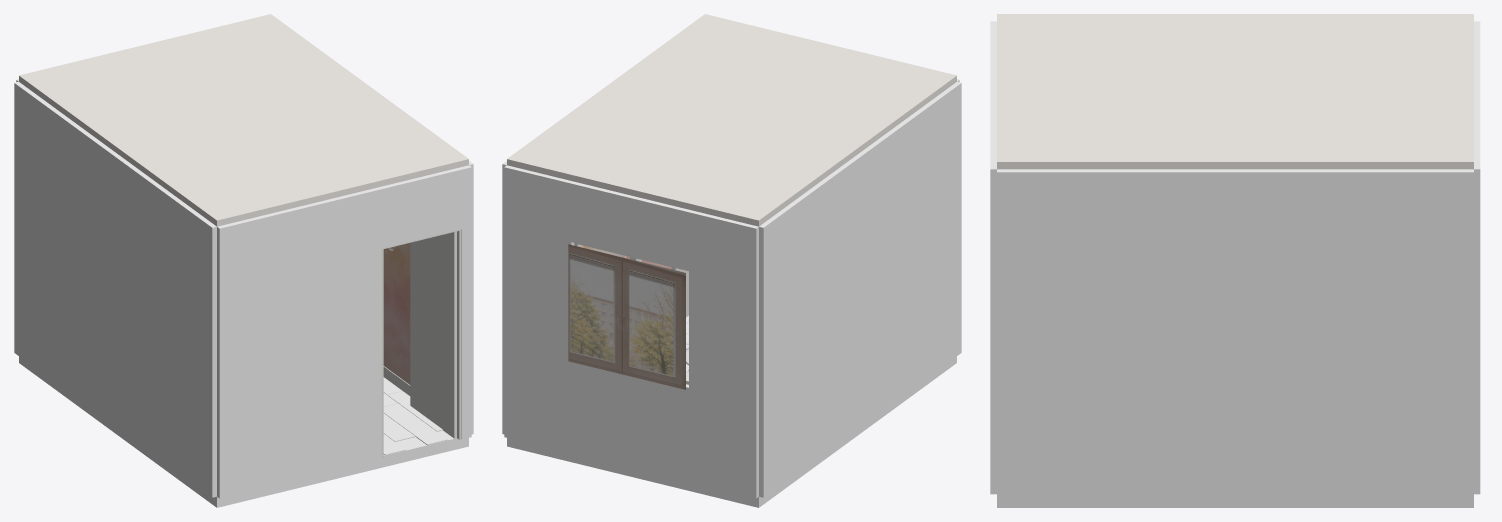
Rendered from Julia_recorrido_web.glb.
The picture shows the model from 3 angles, left to right: view 1: azimuth 30°, elevation 25°; view 2: azimuth 150°, elevation 25°; view 3: azimuth 270°, elevation 25°; orthographic projection. The views are drawn at different scales.
Parts seen in each view (by area): view 1: Muro izquierdo rosa, Techo 263cm, Tabique entrada izquierda, Hoja puerta blanca ABIERTA, Dintel puerta, Suelo base 257x350, Papel pintado autentico pared cuna, Tabique entrada derecha, Tabla de tarima escalonada.040, Marco puerta.001, Muro derecho papel pintado, Marco puerta; view 2: Muro izquierdo rosa, Techo 263cm, Pared trasera Izquierdo, Pared trasera Derecho, Arboles y edificios visibles desde Julia, Antepecho ventana, Dintel ventana, Suelo base 257x350, Muro derecho papel pintado; view 3: Muro derecho papel pintado, Techo 263cm, Suelo base 257x350, Pared trasera Derecho, Tabique entrada derecha, Tabique entrada izquierda.
Boxes of the visible parts, x1,y1,x2,y2 form: Muro izquierdo rosa: [14, 81, 216, 497]; Techo 263cm: [19, 14, 468, 226]; Tabique entrada izquierda: [217, 187, 381, 498]; Hoja puerta blanca ABIERTA: [410, 231, 456, 438]; Dintel puerta: [379, 167, 461, 248]; Suelo base 257x350: [19, 356, 468, 507]; Papel pintado autentico pared cuna: [383, 243, 410, 384]; Tabique entrada derecha: [460, 165, 471, 439]; Tabla de tarima escalonada.040: [383, 403, 447, 445]; Marco puerta.001: [457, 229, 461, 439]; Muro derecho papel pintado: [383, 161, 473, 434]; Marco puerta: [381, 248, 383, 458]; Muro izquierdo rosa: [759, 81, 961, 497]; Techo 263cm: [507, 14, 956, 226]; Pared trasera Izquierdo: [689, 210, 758, 498]; Pared trasera Derecho: [504, 165, 574, 453]; Arboles y edificios visibles desde Julia: [568, 244, 685, 389]; Antepecho ventana: [571, 362, 688, 481]; Dintel ventana: [571, 181, 691, 270]; Suelo base 257x350: [507, 356, 956, 507]; Muro derecho papel pintado: [502, 161, 506, 434]; Muro derecho papel pintado: [997, 169, 1473, 496]; Techo 263cm: [997, 14, 1473, 169]; Suelo base 257x350: [997, 497, 1473, 507]; Pared trasera Derecho: [1474, 130, 1480, 494]; Tabique entrada derecha: [990, 163, 996, 494]; Tabique entrada izquierda: [990, 21, 996, 116].
Bounding box in the file's own units: 2.66 × 2.8 × 3.65.
32 materials, 7 textured.
